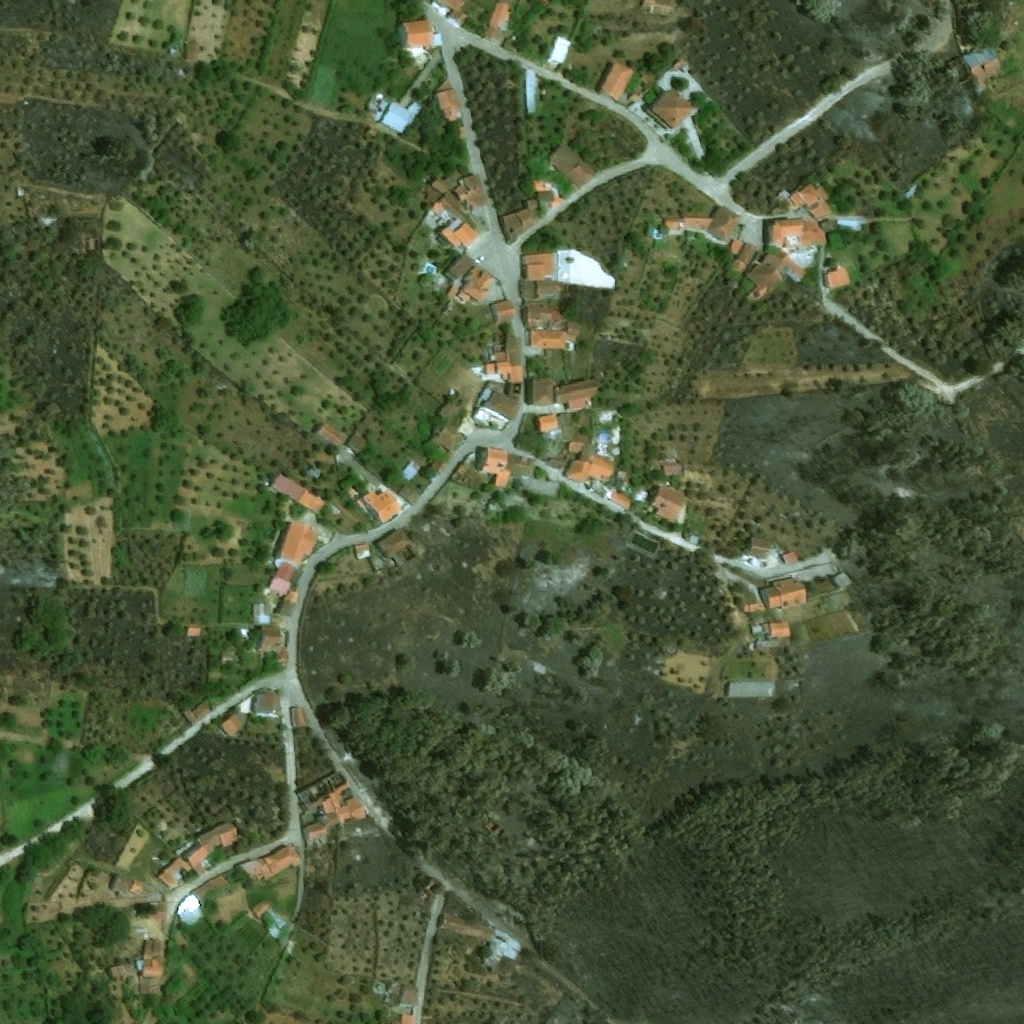0 no-damage: (269, 521, 320, 595), (479, 336, 522, 423), (660, 204, 742, 244), (746, 252, 807, 301), (237, 844, 302, 885), (186, 823, 238, 874), (423, 178, 476, 228), (269, 472, 326, 516), (643, 86, 697, 132), (565, 437, 617, 484), (545, 143, 595, 188), (481, 449, 535, 488), (518, 253, 561, 297), (777, 184, 832, 218), (767, 218, 825, 247), (757, 575, 806, 609), (377, 99, 422, 135), (596, 63, 635, 104), (647, 485, 689, 523), (501, 200, 538, 243), (396, 19, 445, 49), (361, 489, 402, 524), (482, 0, 516, 41), (533, 412, 579, 442), (554, 379, 600, 409), (256, 627, 290, 666), (457, 268, 493, 301), (725, 238, 756, 276), (378, 527, 414, 559), (442, 218, 480, 248), (436, 393, 470, 425), (452, 175, 484, 209), (157, 858, 192, 889), (190, 875, 229, 902), (433, 89, 463, 124), (316, 420, 348, 450), (819, 263, 852, 292), (181, 699, 214, 726), (525, 303, 562, 327), (446, 253, 477, 281), (723, 682, 777, 698), (430, 427, 460, 453), (529, 329, 566, 350), (175, 902, 206, 927), (435, 0, 467, 24), (751, 619, 791, 638), (252, 692, 281, 717), (416, 876, 444, 901), (219, 713, 247, 738), (530, 378, 555, 406), (276, 590, 299, 620), (489, 300, 517, 323), (113, 875, 143, 895), (398, 483, 423, 506), (345, 432, 368, 457), (525, 68, 537, 113), (832, 217, 870, 231), (746, 538, 771, 559), (530, 181, 554, 202), (610, 491, 635, 511), (250, 899, 273, 919), (828, 571, 852, 590), (399, 985, 418, 1007), (287, 707, 309, 726), (305, 463, 325, 483), (143, 958, 163, 976), (253, 604, 271, 623), (430, 456, 448, 475), (402, 460, 419, 480), (353, 544, 372, 561), (641, 0, 680, 8), (501, 36, 519, 52), (218, 652, 235, 668), (672, 58, 688, 75), (780, 551, 798, 565), (184, 626, 201, 639), (144, 940, 162, 952), (661, 464, 679, 476), (819, 221, 833, 233), (568, 322, 580, 335), (446, 285, 458, 298), (494, 351, 507, 361), (401, 1014, 414, 1023), (459, 128, 468, 137)
2 major-damage: (296, 769, 367, 845), (949, 47, 1005, 87), (443, 915, 491, 941), (489, 930, 522, 963)
3 destroyed: (901, 179, 923, 203), (957, 1, 985, 19)
